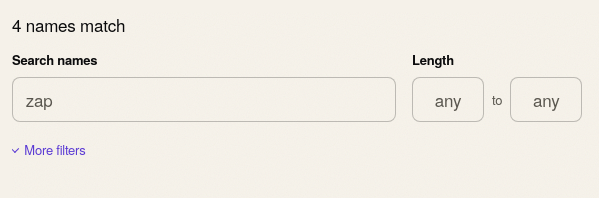
Test: Toolbar length range › stops saying so once the box is emptied
Type "3.5" into the number field named "Shortest label length".
click(448, 100); type("3.5")  # box [412,77,484,122]
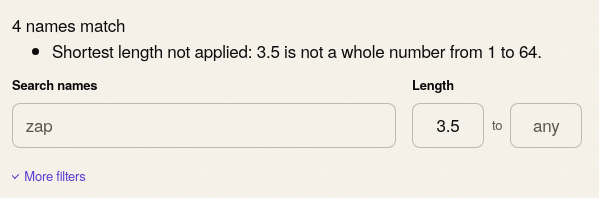
Expected: the list "not applied" is shown, [52,38,542,62]
Clear the number field named "Shortest label length" at [448, 125], box [412,102,484,148]
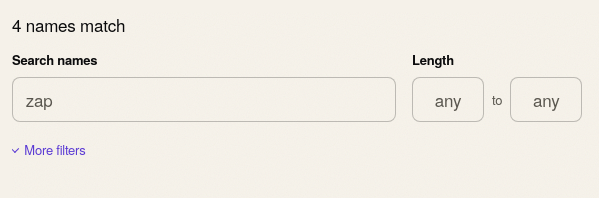
Expected: the list item "not applied" is gone
